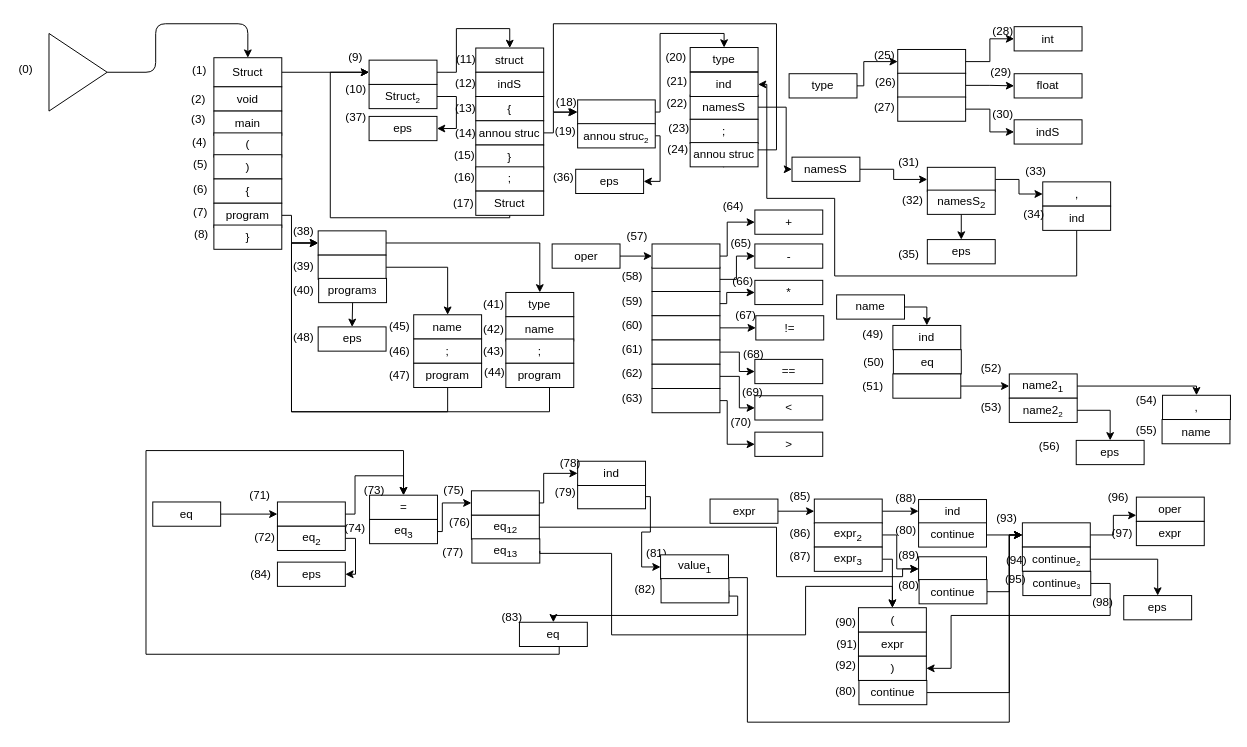
Some shapes in this 1247 by 747 pixel diagram are drawn without their labels. The shapes that lost their labels are listed below. From the top down, each one's centre as x and y in pixels, then its label:
(77,71): start
(402,71): Struct 1
(931,61): type 1
(931,84): type 2
(616,111): annou struc 1
(931,108): type 3
(960,179): namesS 1
(351,242): program 1
(685,255): oper 1
(351,266): program 2
(685,278): oper 2
(685,303): oper 3
(685,327): oper 4
(685,351): oper 5
(685,375): oper 6
(926,385): name2
(685,400): oper 7
(310,513): eq 1
(504,502): eq 11
(611,496): value
(847,510): expr 1
(1055,534): continue 1
(952,568): const
(694,590): value 2
